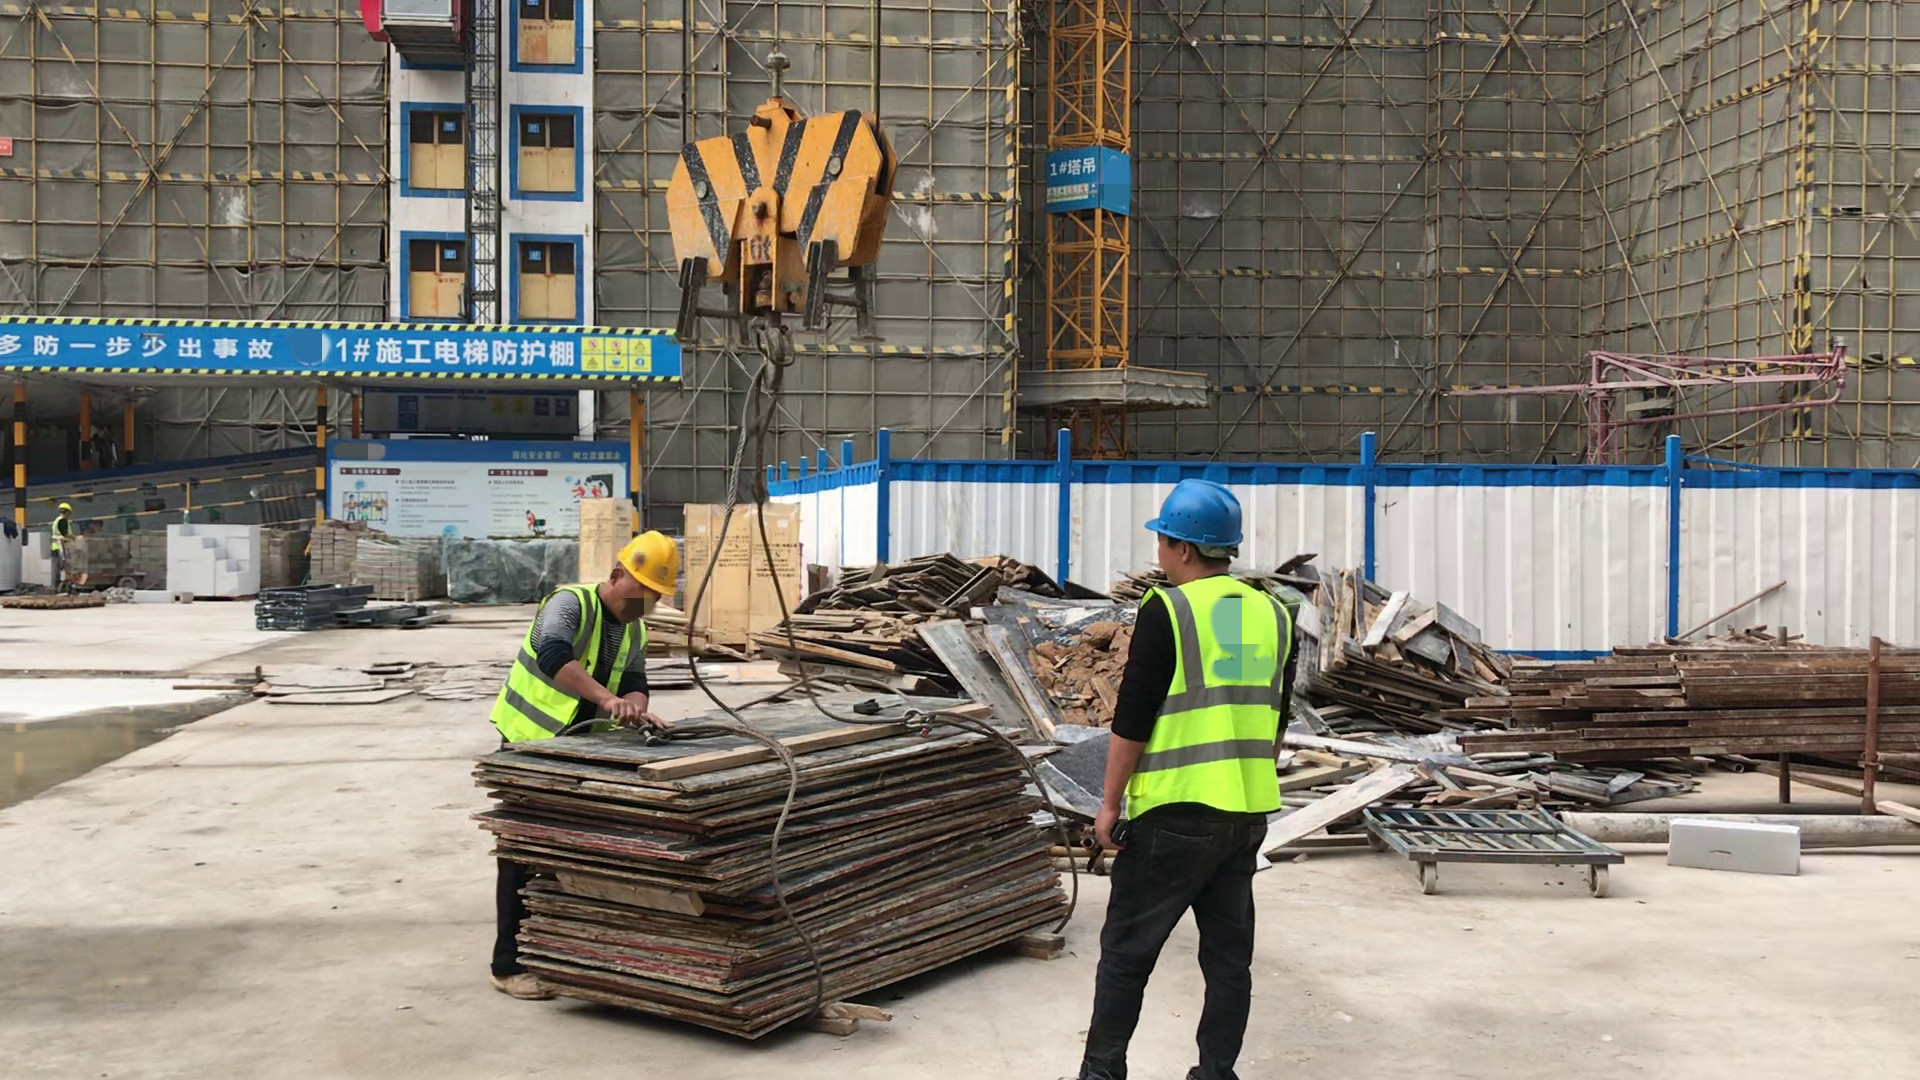board: (477, 691, 1069, 1035)
brick: (162, 520, 258, 598), (2, 520, 47, 602)
helmet: (1144, 479, 1244, 549), (610, 530, 680, 595), (56, 501, 71, 513)
hook: (663, 99, 898, 386)
person: (1079, 468, 1290, 1080), (485, 521, 684, 1003), (51, 501, 74, 560)
slogan: (2, 324, 279, 368), (580, 336, 653, 370), (1045, 185, 1091, 201)
vest: (1119, 572, 1290, 829), (490, 584, 657, 741), (51, 517, 72, 542)
